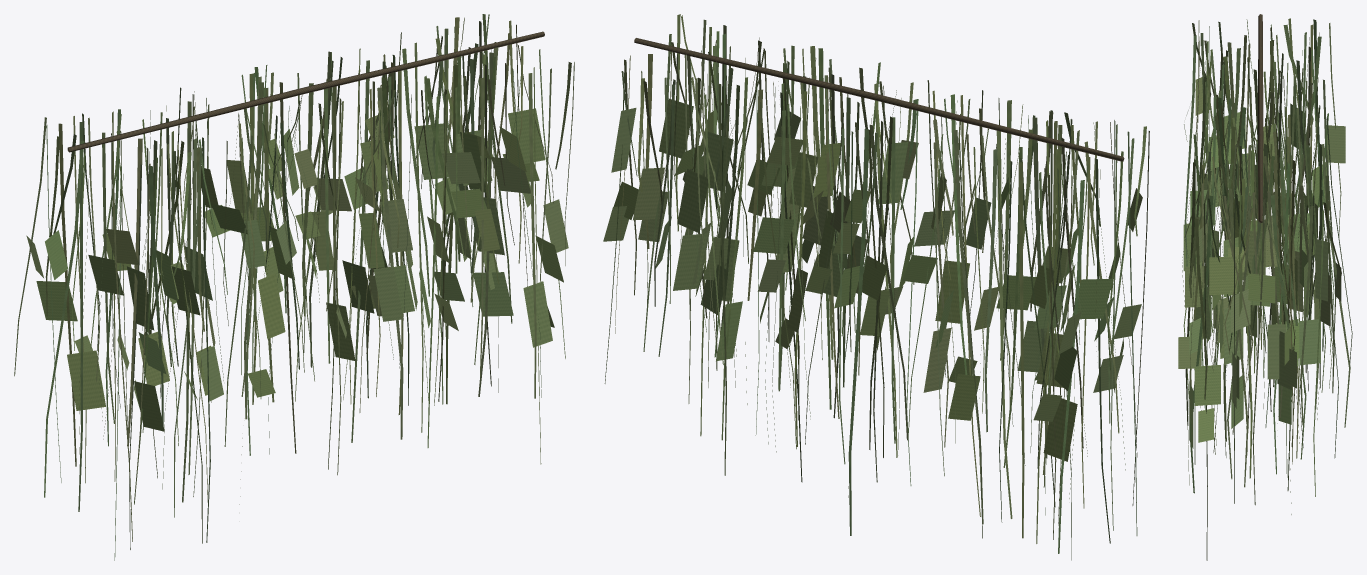
The model's file is PZ_HangingMoss_Drape_B.glb.
3 renders of one model, left to right at view 1: azimuth 30°, elevation 25°; view 2: azimuth 150°, elevation 25°; view 3: azimuth 270°, elevation 25°, orthographic. The views are drawn at different scales.
Visible parts, largest first — view 1: HangingMoss_FineDoubleSided_Ribbons, HangingMoss_CloseFitting_ALPHA_MASK_Tufts, HangingMoss_AttachmentTwigs; view 2: HangingMoss_FineDoubleSided_Ribbons, HangingMoss_CloseFitting_ALPHA_MASK_Tufts, HangingMoss_AttachmentTwigs; view 3: HangingMoss_FineDoubleSided_Ribbons, HangingMoss_CloseFitting_ALPHA_MASK_Tufts, HangingMoss_AttachmentTwigs.
Boxes of the visible parts, left/top/right/bottom form: HangingMoss_FineDoubleSided_Ribbons: left=14, top=14, right=574, bottom=560; HangingMoss_CloseFitting_ALPHA_MASK_Tufts: left=26, top=51, right=568, bottom=431; HangingMoss_AttachmentTwigs: left=67, top=31, right=544, bottom=152; HangingMoss_FineDoubleSided_Ribbons: left=604, top=14, right=1149, bottom=560; HangingMoss_CloseFitting_ALPHA_MASK_Tufts: left=603, top=98, right=1142, bottom=461; HangingMoss_AttachmentTwigs: left=634, top=38, right=1124, bottom=161; HangingMoss_FineDoubleSided_Ribbons: left=1182, top=18, right=1352, bottom=560; HangingMoss_CloseFitting_ALPHA_MASK_Tufts: left=1178, top=75, right=1345, bottom=448; HangingMoss_AttachmentTwigs: left=1257, top=14, right=1263, bottom=223.
Size of the model in its own units: 2.32 by 1.81 by 0.7962.
Materials: 3 (3 with a texture image).
